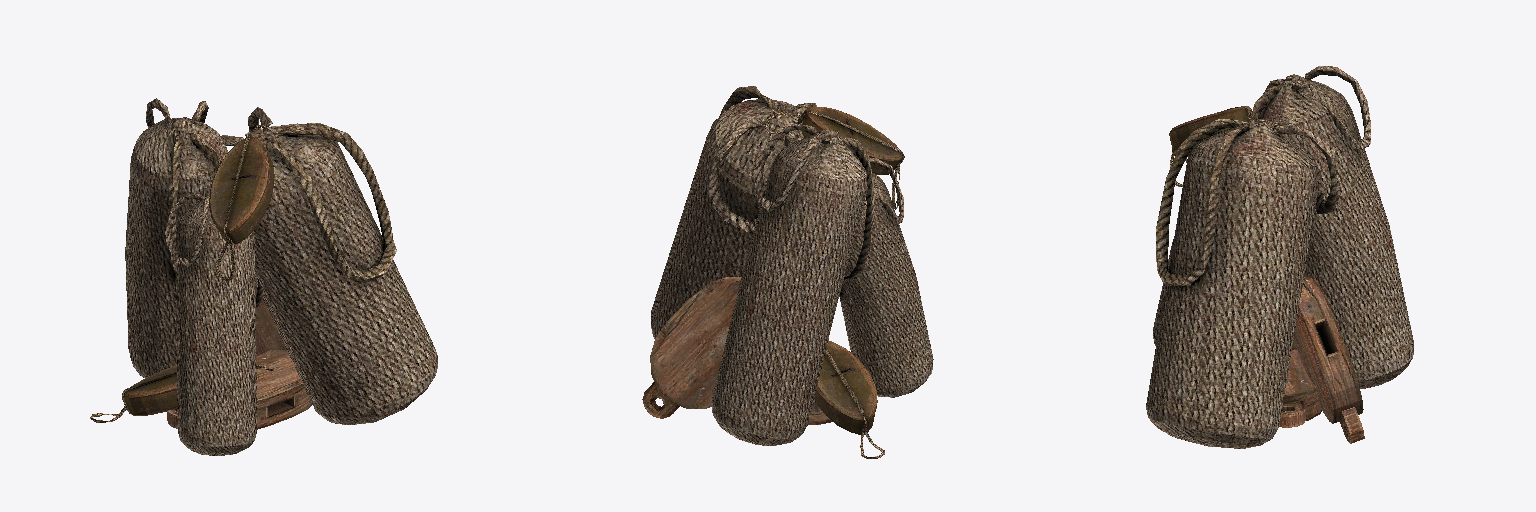
3 views of the same model, side by side, from view 1: azimuth 30°, elevation 25°; view 2: azimuth 150°, elevation 25°; view 3: azimuth 270°, elevation 25° (orthographic).
Visible parts, largest first — view 1: ship_rigging_pile_a; view 2: ship_rigging_pile_a; view 3: ship_rigging_pile_a.
Boxes of the visible parts, <box> form: ship_rigging_pile_a: <box>90,98,437,455</box>; ship_rigging_pile_a: <box>642,86,933,458</box>; ship_rigging_pile_a: <box>1146,66,1413,448</box>.
Size of the model in its own units: 47.81 by 50.31 by 39.53.
1 materials, 1 textured.